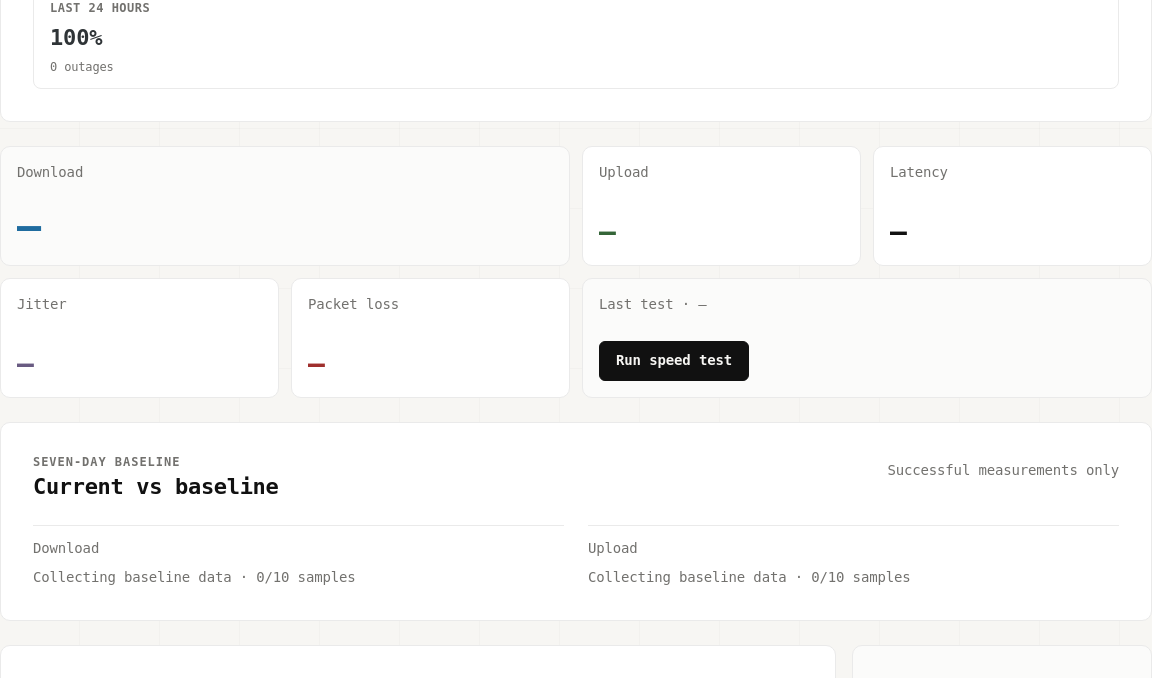
it: dashboard › shows running state after a manual speed test starts
(page scrolled)
What coordinates should you click on to do the following:
click the button "Run speed test"
I would click on:
 (674, 361)
Its box is [599, 341, 749, 381].
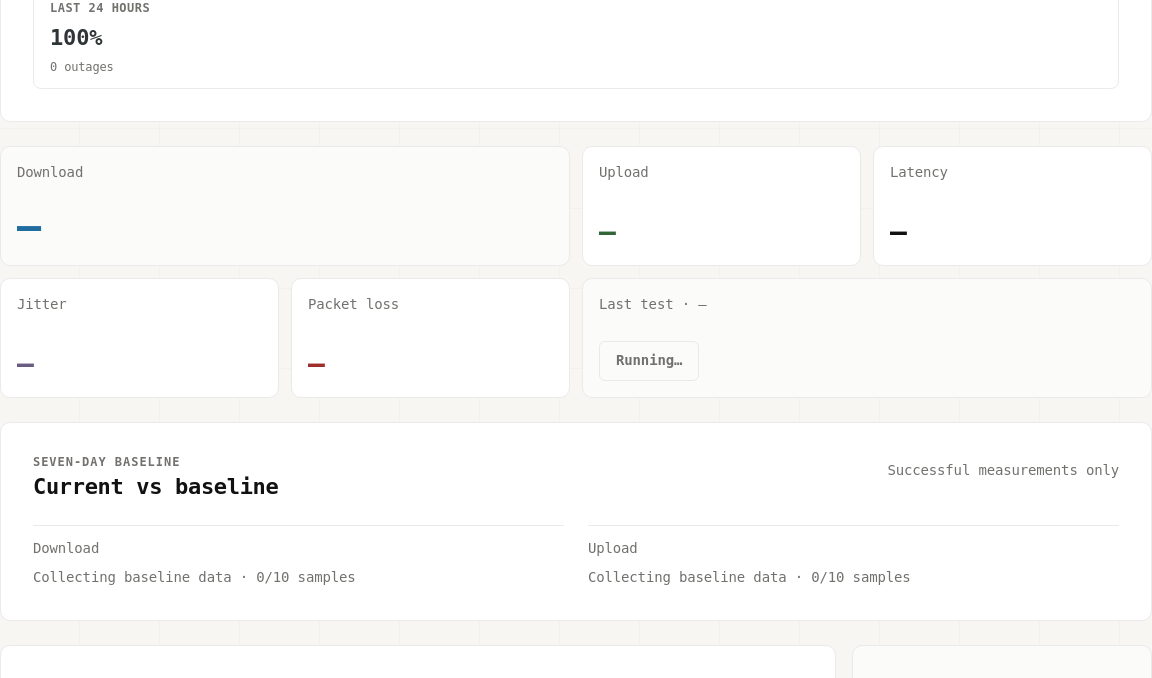
Now the button "Running…" is disabled, box [599, 341, 699, 381]
